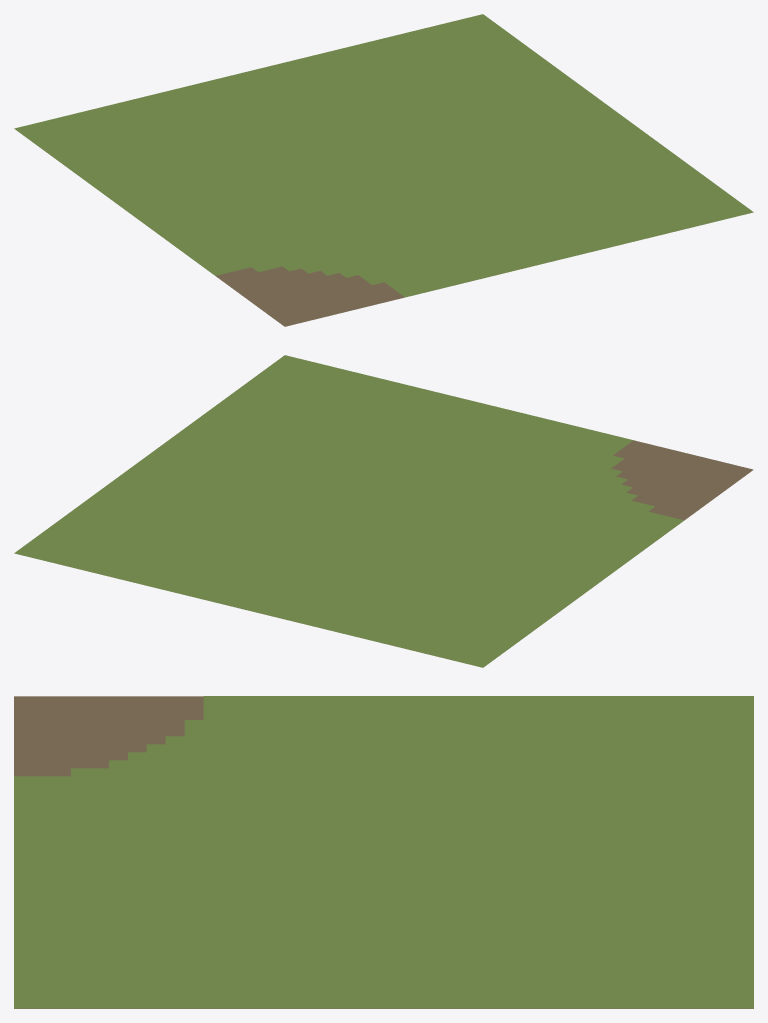
Rendered from region_0_-1.glb.
3 renders of one model, top to bottom at view 1: azimuth 30°, elevation 25°; view 2: azimuth 150°, elevation 25°; view 3: azimuth 270°, elevation 25°, orthographic. The views are drawn at different scales.
Parts seen in each view (by area): view 1: OD_Meadow.008, OD_Ground.008; view 2: OD_Meadow.008, OD_Ground.008; view 3: OD_Meadow.008, OD_Ground.008.
Boxes of the visible parts, x1,y1,x2,y2 form: OD_Meadow.008: (14,14,753,297); OD_Ground.008: (216,266,404,326); OD_Meadow.008: (14,355,683,667); OD_Ground.008: (611,440,753,520); OD_Meadow.008: (14,696,753,1008); OD_Ground.008: (14,696,753,1008).
Size of the model in its own units: 32.35 by 0.00518 by 32.35.
